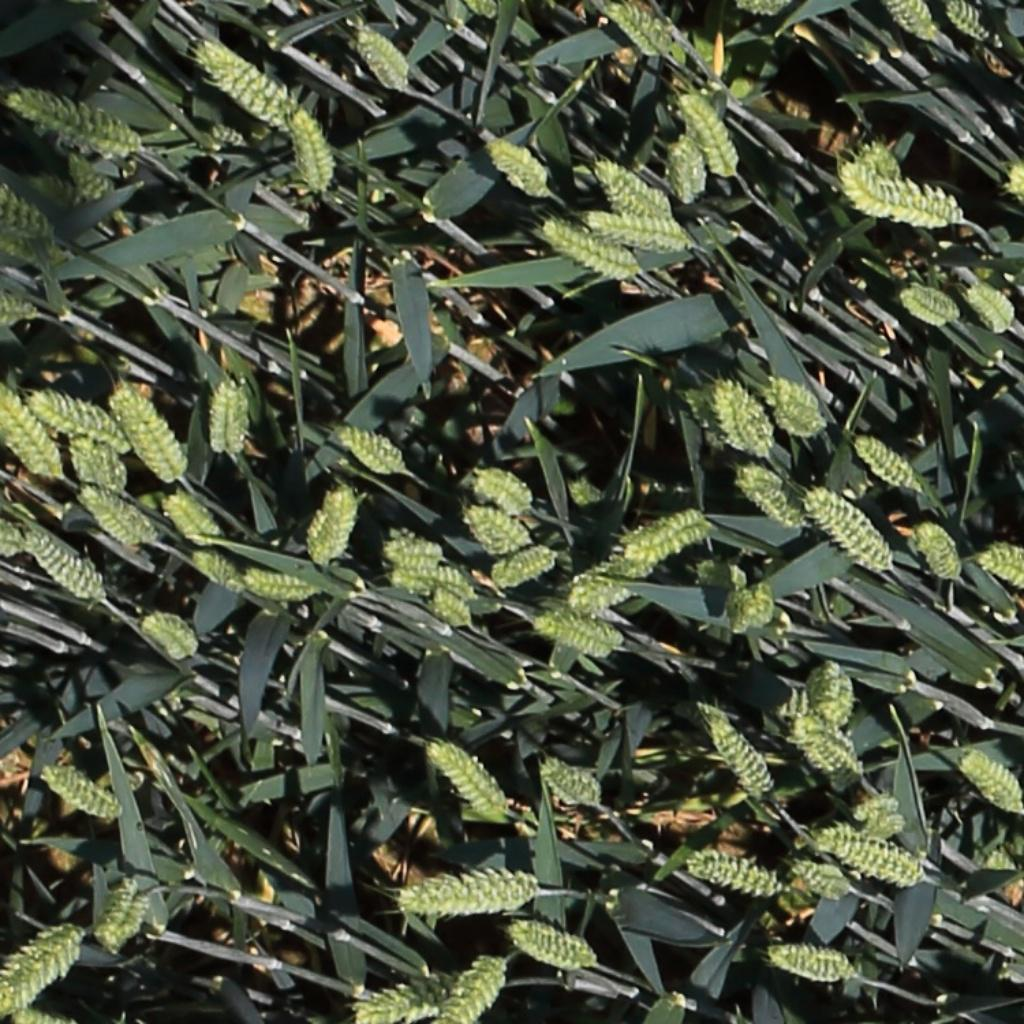0-0: (5, 81, 147, 153), (839, 160, 969, 231), (195, 43, 296, 128), (106, 385, 190, 486), (2, 922, 88, 1018), (21, 383, 133, 456), (695, 700, 774, 803), (804, 488, 898, 572), (424, 742, 517, 823), (397, 865, 546, 913), (540, 219, 648, 285), (2, 383, 70, 484), (344, 10, 420, 99), (819, 832, 931, 888), (682, 91, 747, 182), (611, 511, 720, 564), (435, 950, 513, 1024), (21, 531, 102, 602), (74, 483, 163, 547), (783, 709, 865, 778), (711, 378, 774, 460), (306, 482, 362, 569), (565, 557, 656, 610), (506, 922, 604, 971), (203, 376, 255, 467), (959, 747, 1024, 819), (591, 157, 669, 217), (533, 610, 623, 662), (736, 463, 809, 527), (39, 767, 122, 821), (684, 856, 787, 899), (582, 211, 694, 250), (766, 373, 831, 439), (853, 432, 922, 494), (336, 422, 410, 479), (98, 875, 149, 955), (294, 109, 337, 202), (345, 981, 443, 1021), (483, 136, 549, 194), (603, 1, 670, 58), (492, 541, 564, 594), (69, 435, 129, 498), (463, 504, 534, 557), (672, 376, 720, 454), (910, 518, 965, 584), (537, 760, 606, 812), (162, 492, 224, 549), (767, 947, 860, 985), (389, 564, 482, 602), (669, 129, 715, 204), (801, 659, 854, 723), (962, 278, 1019, 334), (473, 468, 535, 519), (861, 127, 916, 184), (144, 610, 201, 663), (723, 583, 779, 636), (561, 465, 616, 514), (899, 286, 963, 327), (245, 566, 322, 600), (383, 529, 448, 568), (0, 229, 69, 265), (0, 185, 55, 230), (187, 551, 247, 592), (793, 859, 854, 899), (944, 0, 995, 46), (886, 1, 936, 45), (34, 174, 85, 213), (434, 588, 475, 634), (979, 543, 1024, 584), (73, 153, 108, 200), (1, 516, 34, 561), (0, 291, 42, 326), (854, 791, 899, 821), (986, 950, 1023, 986), (993, 165, 1024, 205), (862, 815, 908, 839), (13, 1008, 76, 1021), (734, 0, 785, 16)
